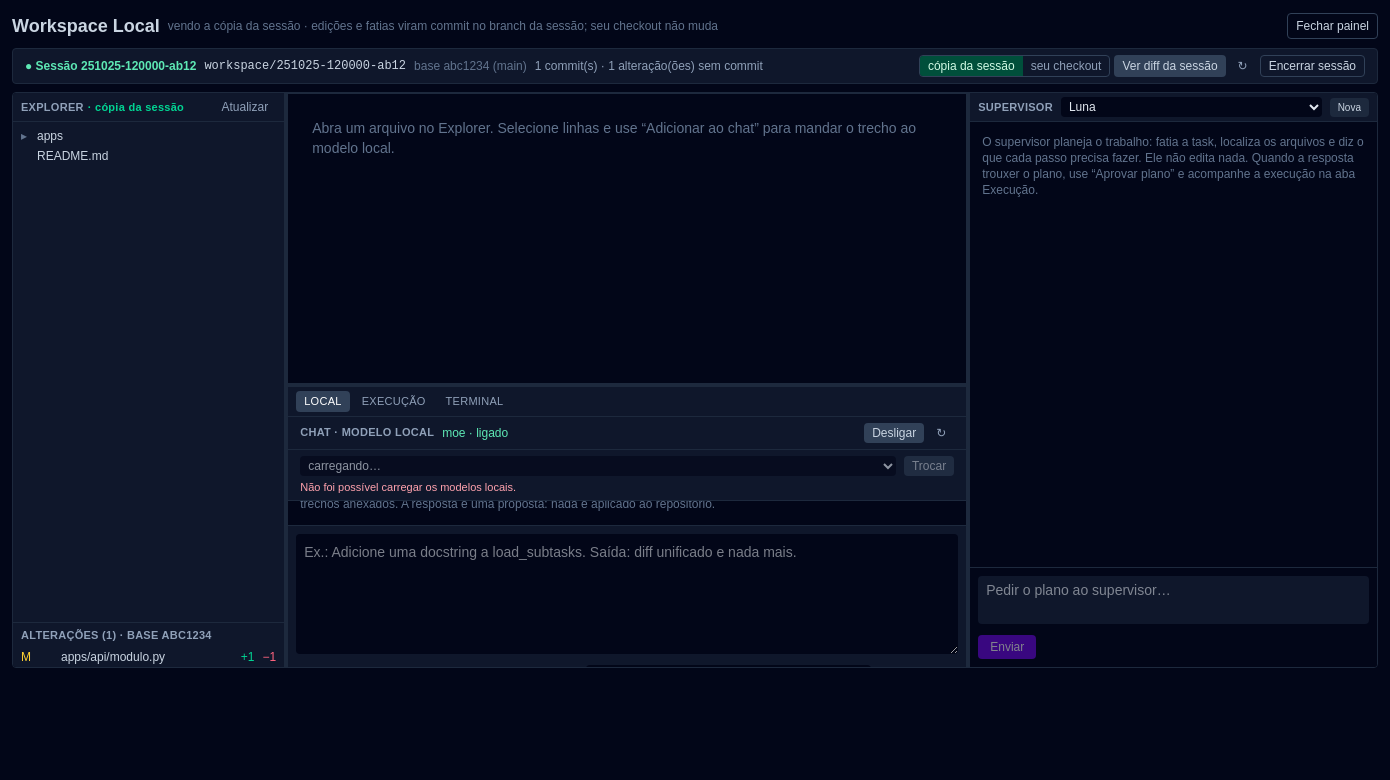
Workspace Local › encerrar com alteração sem commit pede confirmação antes de descartar
(page scrolled)
Step 1. Click the button "Encerrar sessão" → (1312, 66), box [1260,55,1365,77]
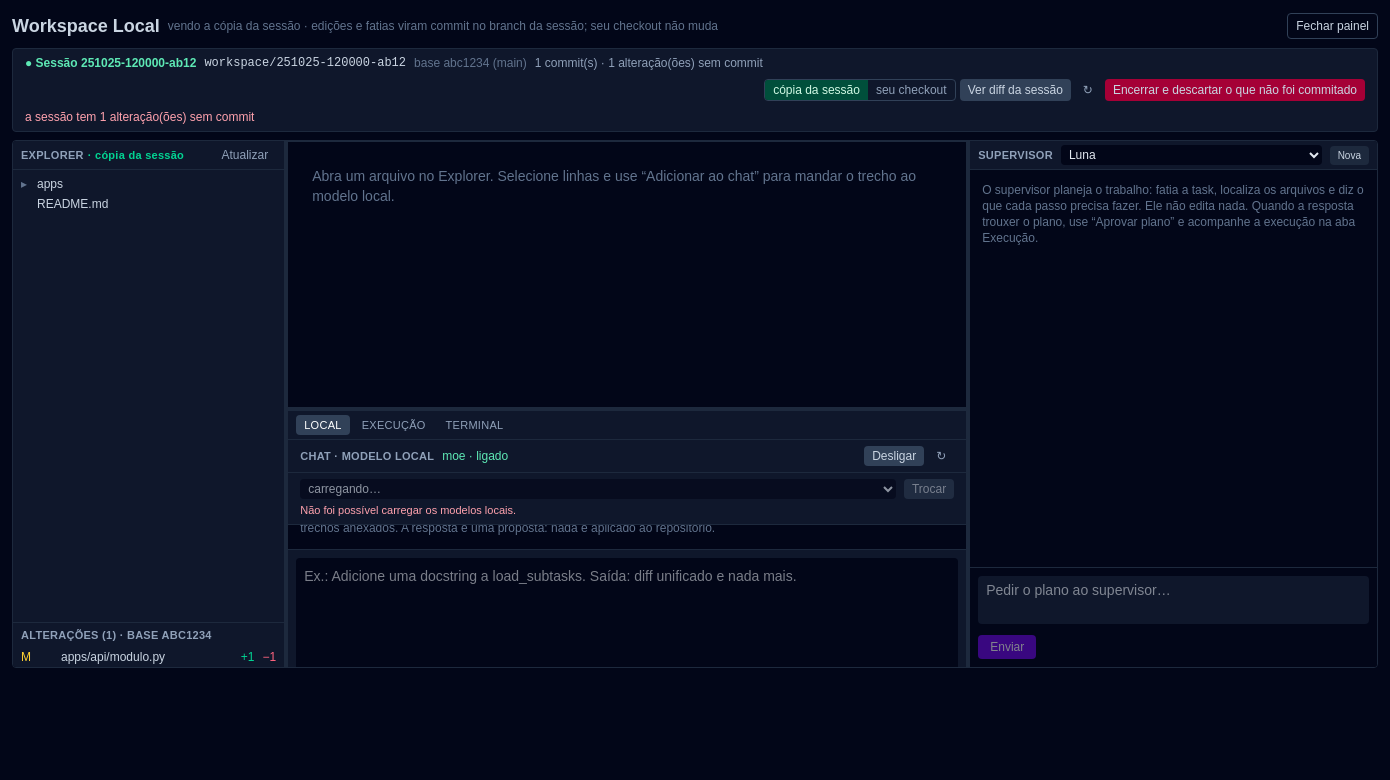
Result: the message "a sessão tem 1 alteração(ões) sem commit" is shown at [25,110,254,124]
Step 2. Click the button "Encerrar e descartar o que não foi commitado" → (1235, 90), box [1105,79,1365,101]
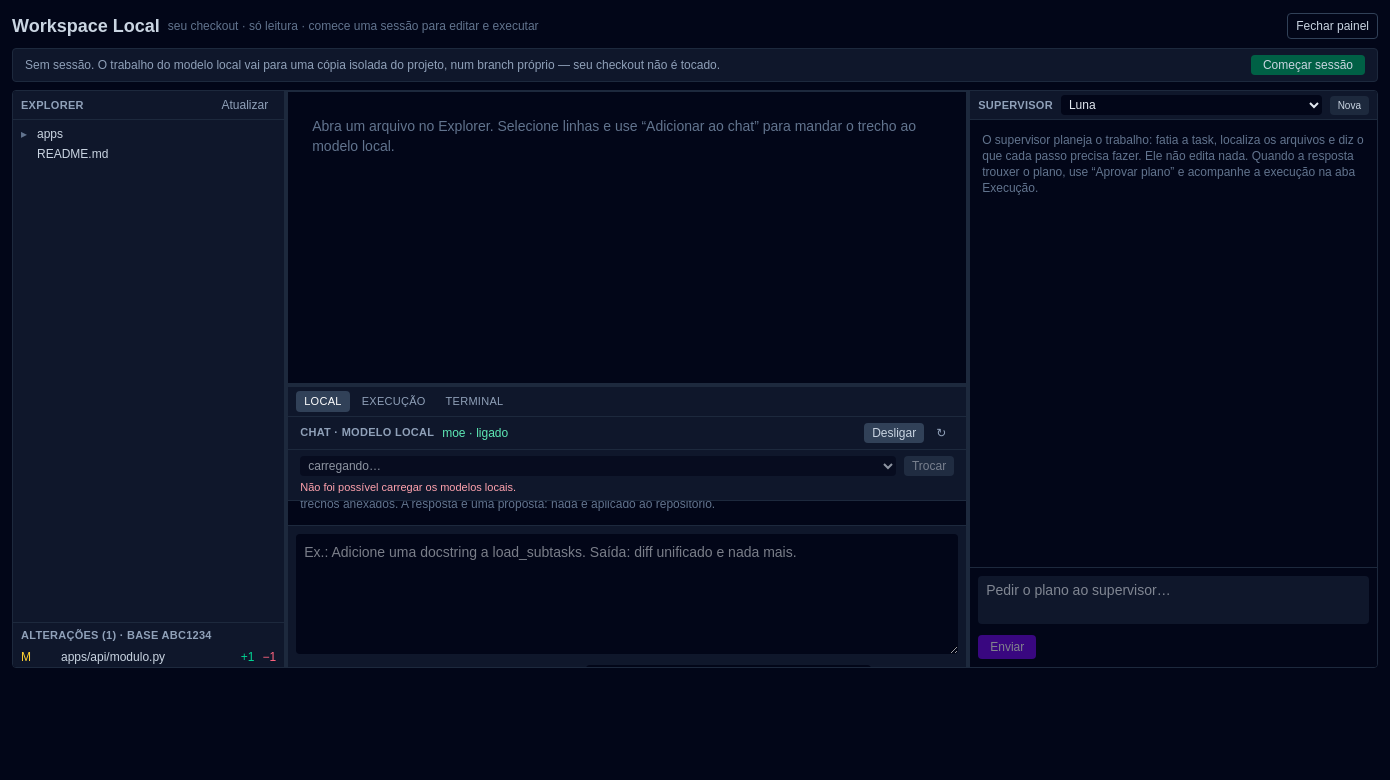
Result: the button "Começar sessão" is shown at [1251,55,1365,75]
